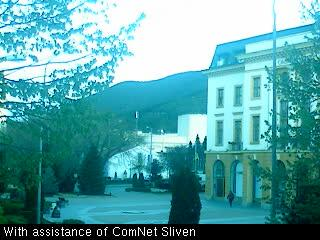person: (227, 190, 234, 207)
